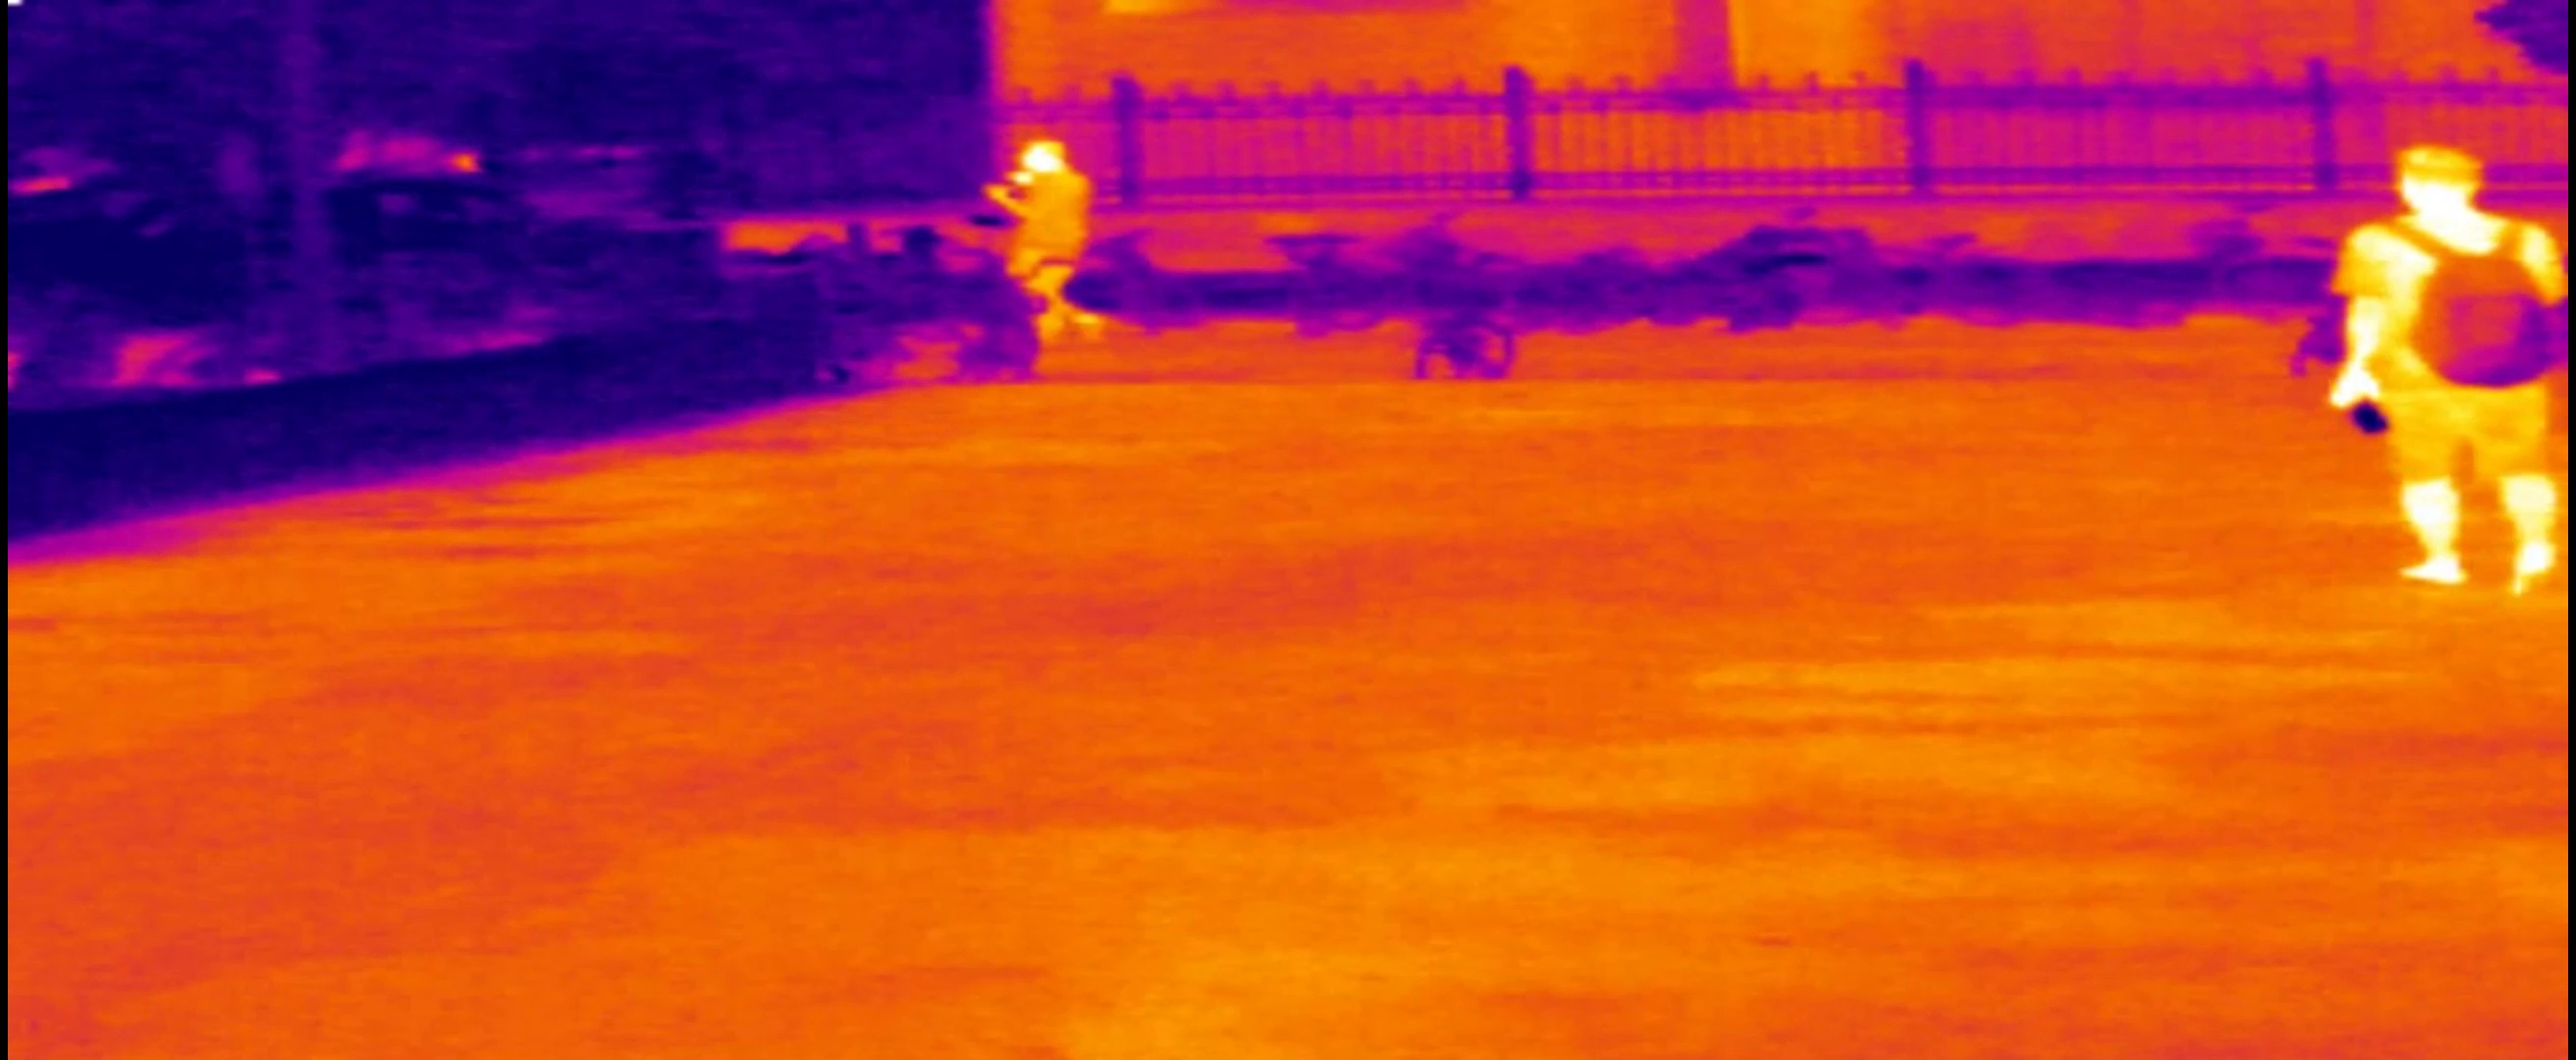person: (2322, 144, 2562, 591), (989, 136, 1104, 346)
